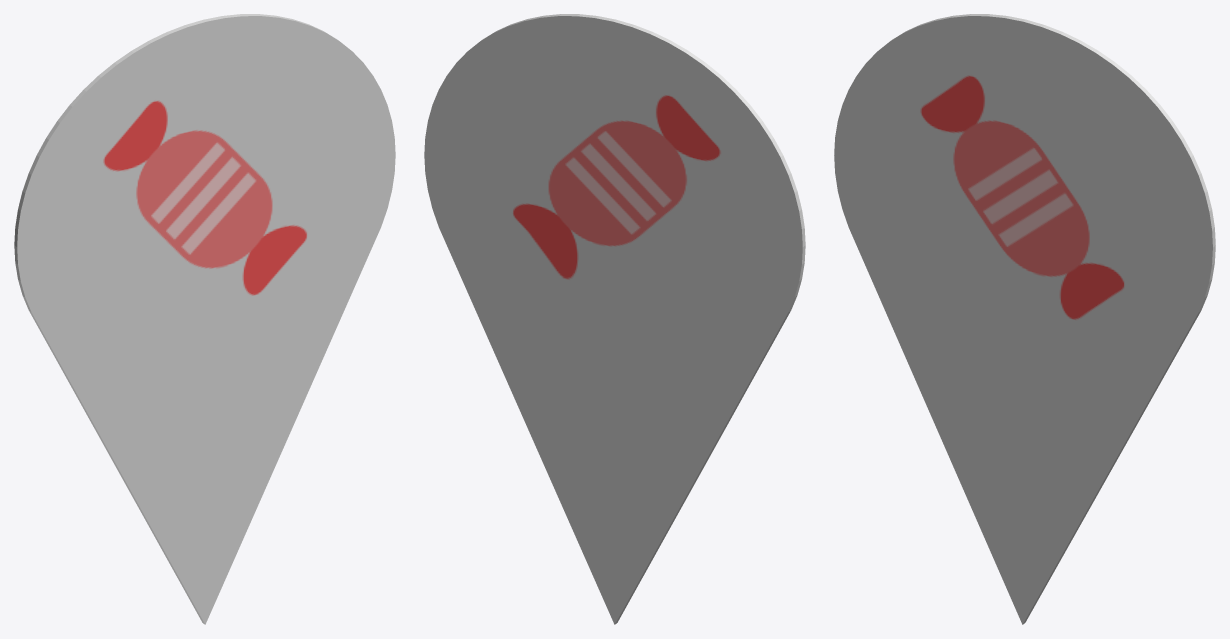
3 views of the same model, side by side, from view 1: azimuth 30°, elevation 25°; view 2: azimuth 150°, elevation 25°; view 3: azimuth 330°, elevation 25° (orthographic).
Visible parts, largest first — view 1: Куб.002; view 2: Куб.002; view 3: Куб.002.
Part boxes in pixels (box(x1,y1,x2,y2)): Куб.002: box(14, 14, 395, 624); Куб.002: box(424, 14, 805, 624); Куб.002: box(834, 14, 1215, 624).
Bounding box in the file's own units: 0.5098 × 0.776 × 0.00663.
